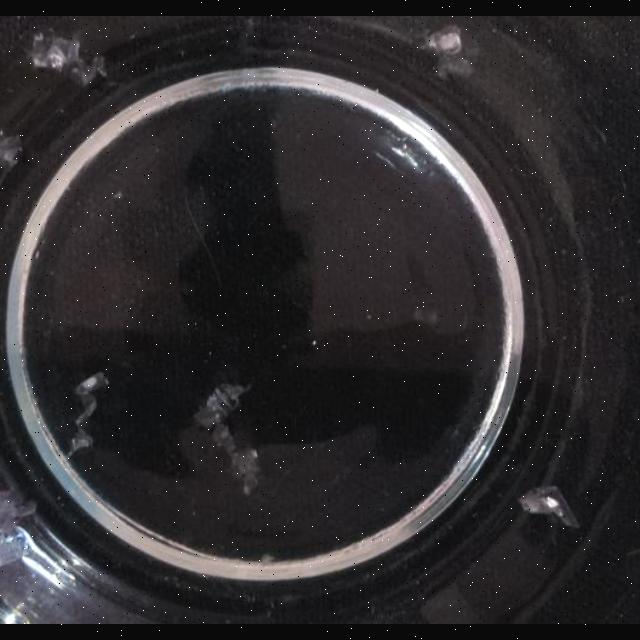Fibre: (194, 380, 262, 492), (27, 29, 103, 87), (68, 373, 110, 457), (424, 24, 476, 80), (518, 485, 578, 529), (260, 554, 276, 564)
